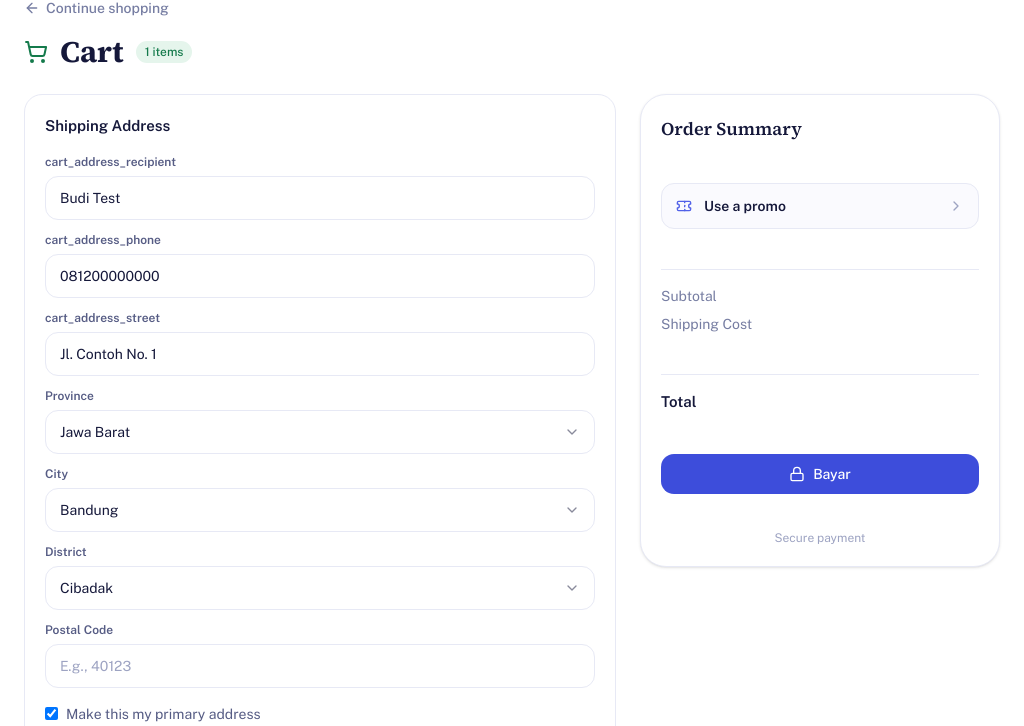
Test: CartPage with Shipping › marks the summary as the primary address only when it matches the profile
Type "15310" into the field labelled "Postal Code".
click(320, 666); type("15310")  # box [45,644,595,688]
(page scrolled)
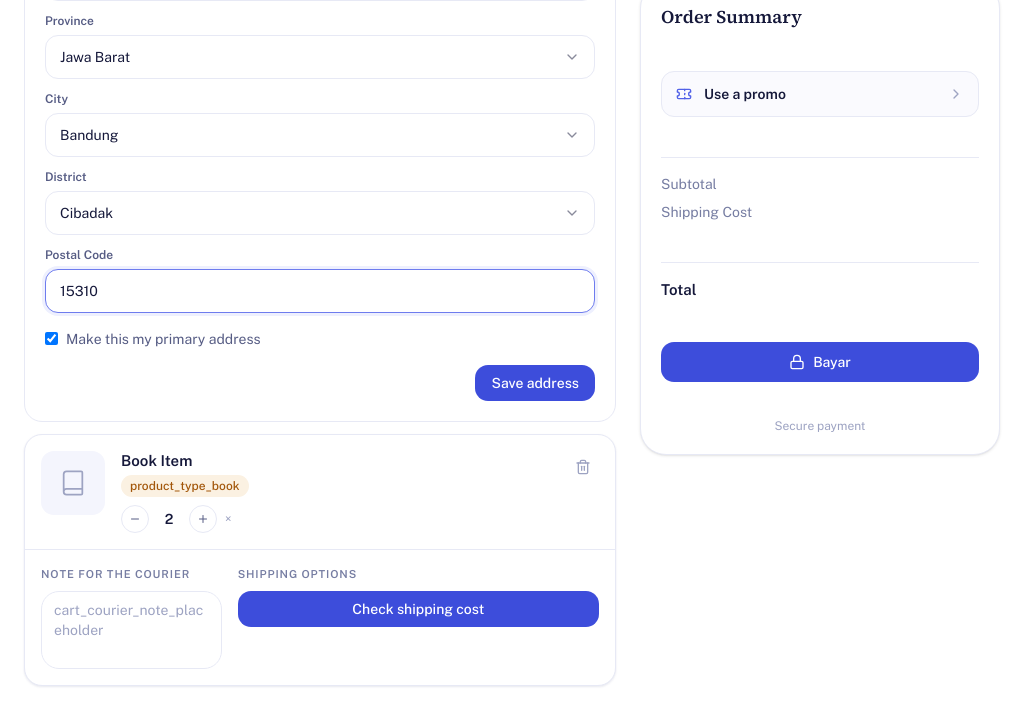
Click the button "Save address".
click(535, 382)  # box [476,364,595,400]
(page scrolled)
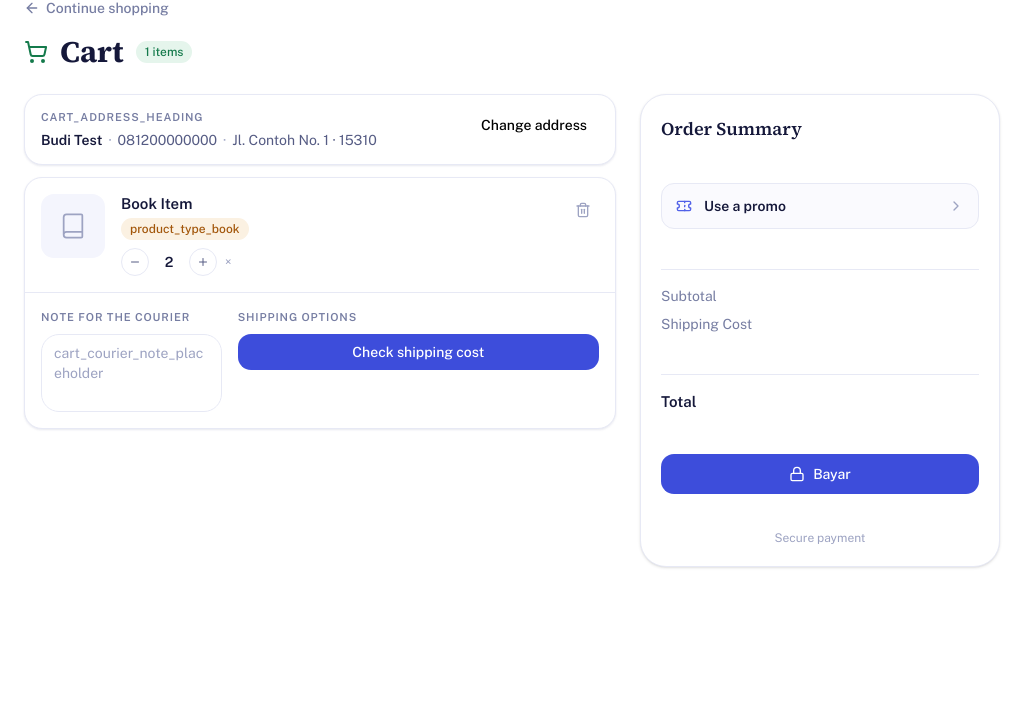
Result: the button "Change address" is shown at [469,109,599,141]
Result: the text "primary" is gone
